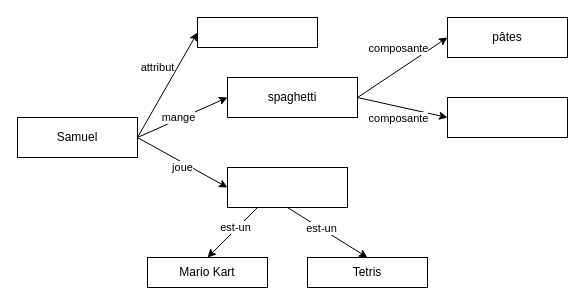
Some shapes in this 585 by 305 pixel diagram are drawn without their labels. Here are the shapes that lost their labels. From the top down, the centre of each, then its label:
At (x=257, y=32): "cheveux bruns".
At (x=507, y=117): "sauce tomate".
At (x=287, y=187): "jeux vidéos".
